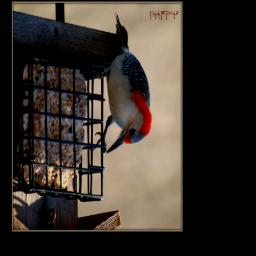Woodpecker: (94, 13, 152, 153)
